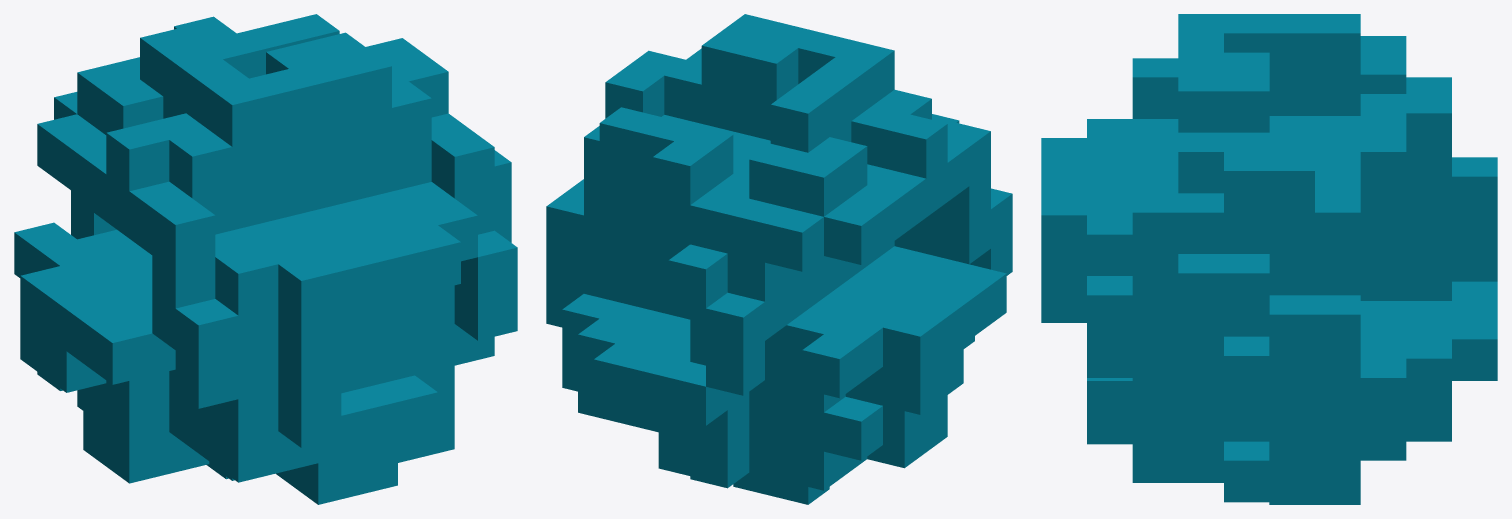
Rendered from planeta-8a.obj.
The picture shows the model from 3 angles, left to right: view 1: azimuth 30°, elevation 25°; view 2: azimuth 150°, elevation 25°; view 3: azimuth 270°, elevation 25°; orthographic projection. The views are drawn at different scales.
Bounding box in the file's own units: 1 × 1 × 1.
1 material, 1 textured.
